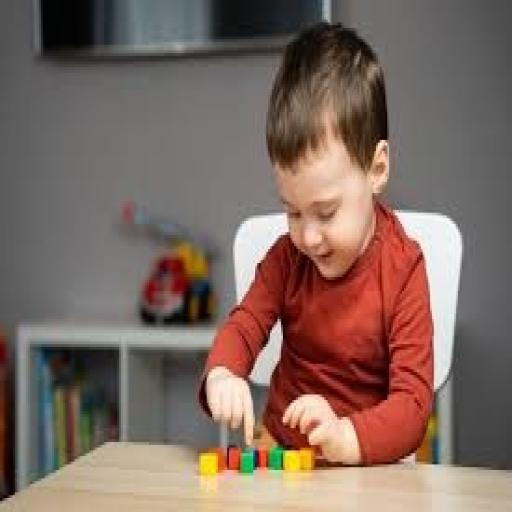baby: (198, 23, 433, 464)
